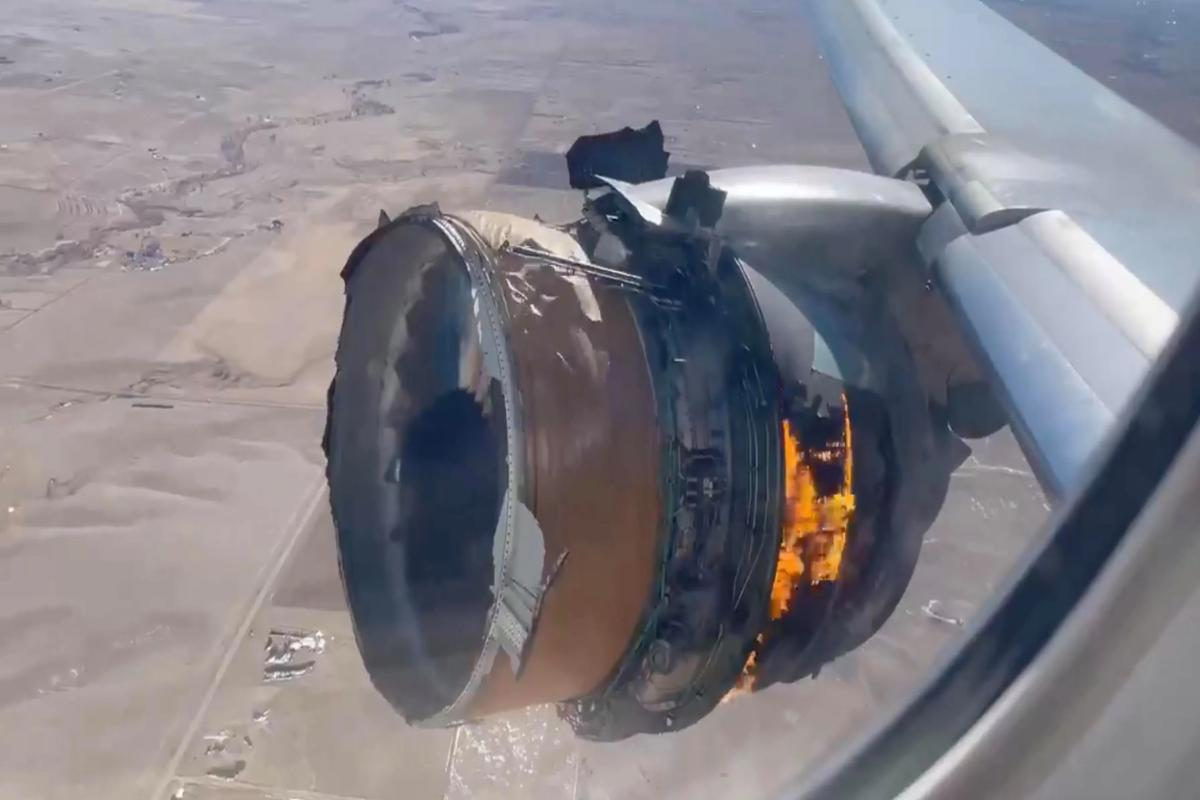Fuselage_damage: (557, 183, 781, 744), (448, 210, 664, 716), (318, 204, 510, 722), (766, 395, 852, 617), (669, 168, 730, 227), (722, 638, 761, 707)
